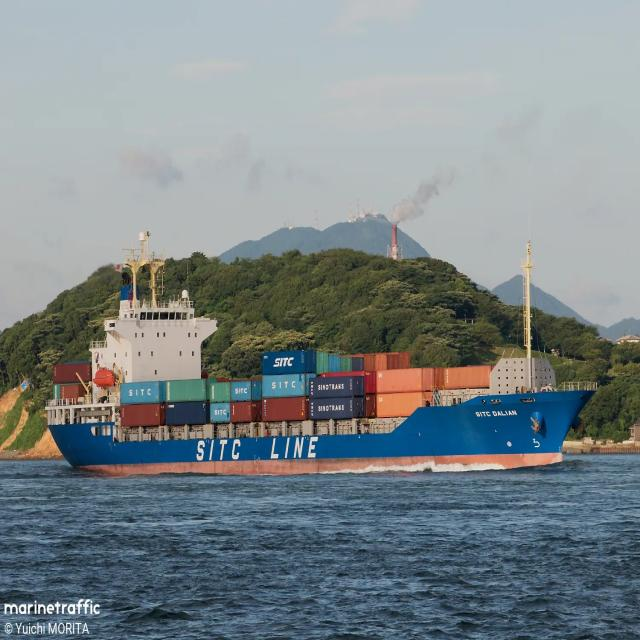Cargo: (46, 233, 591, 476)
